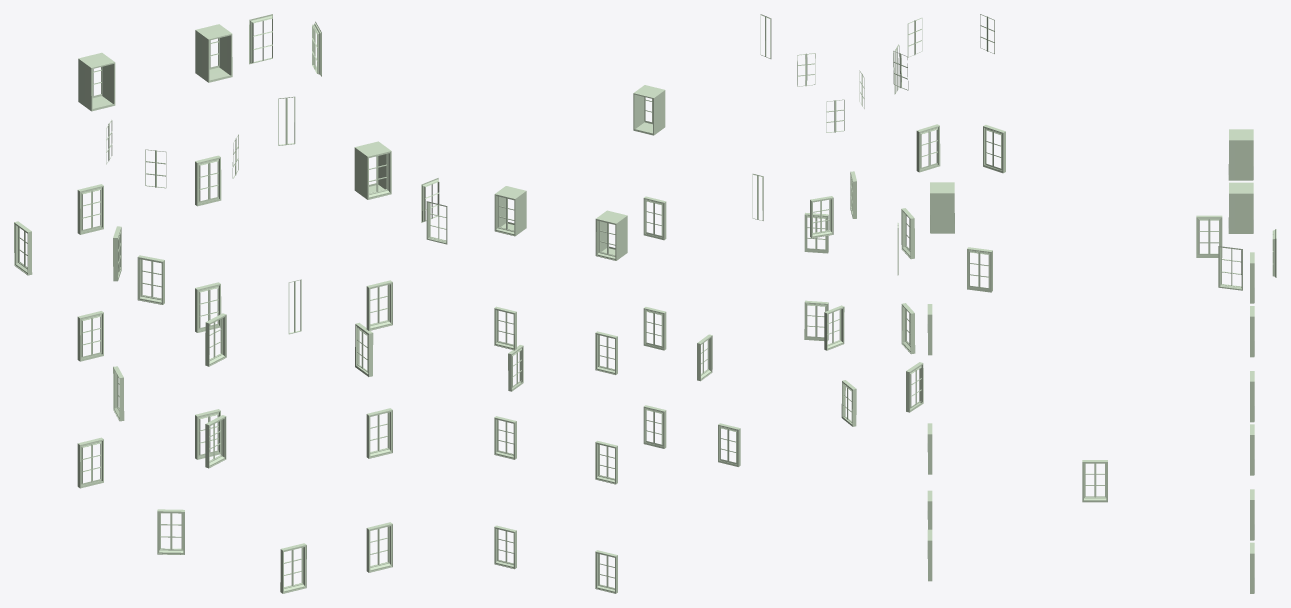
File: FairyTale102.gltf
The picture shows the model from 3 angles, left to right: view 1: azimuth 30°, elevation 25°; view 2: azimuth 150°, elevation 25°; view 3: azimuth 270°, elevation 25°; orthographic projection. The views are drawn at different scales.
Parts seen in each view (by area): view 1: HouseCastle_Mullions_Wood; view 2: HouseCastle_Mullions_Wood; view 3: HouseCastle_Mullions_Wood.
Part boxes in pixels (x1,y1,x2,y2): HouseCastle_Mullions_Wood: (14, 14, 392, 593); HouseCastle_Mullions_Wood: (421, 14, 864, 593); HouseCastle_Mullions_Wood: (893, 14, 1276, 593).
Size of the model in its own units: 12.77 by 18.31 by 12.98.
